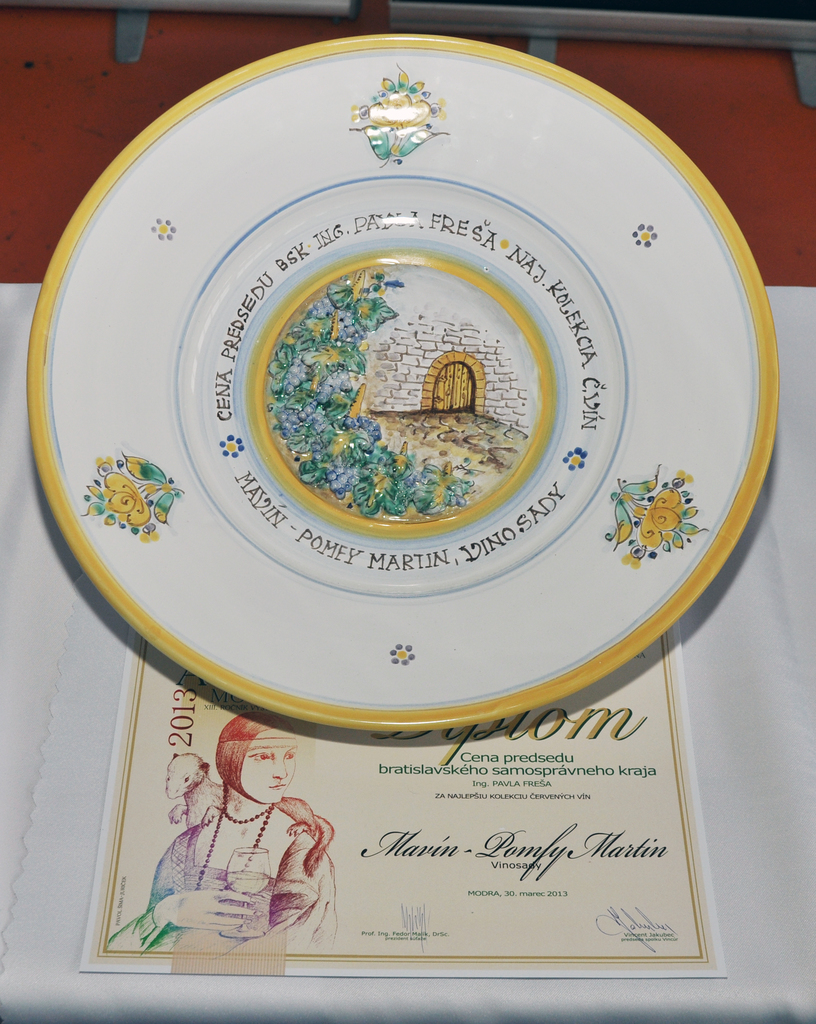plate: (25, 33, 779, 732)
